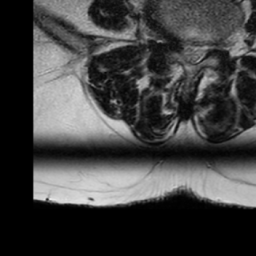CCS_stenosis: (190, 33, 198, 72)
LFS_stenosis: (207, 30, 218, 61)
LLS_normal: (198, 34, 207, 68)
RFS_severe_stenosis: (171, 28, 181, 60)
RLS_normal: (181, 35, 190, 66)
